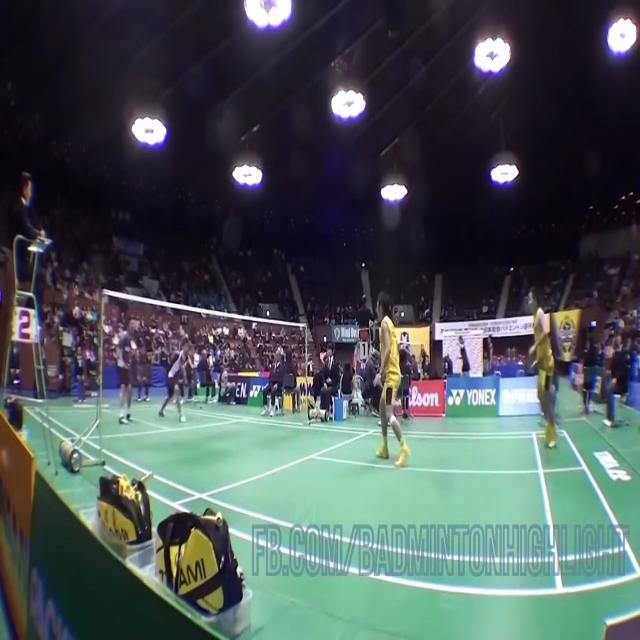shuttlecock: (209, 335, 214, 346)
